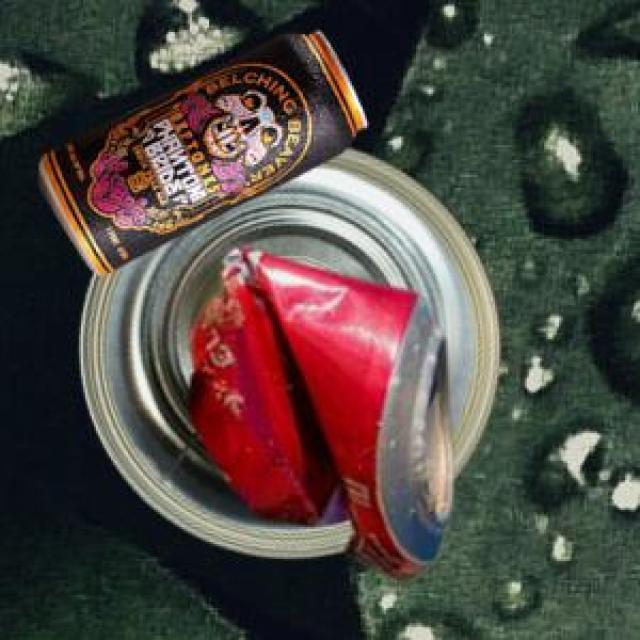Can: (78, 144, 498, 556), (187, 244, 449, 577), (35, 29, 364, 272)
